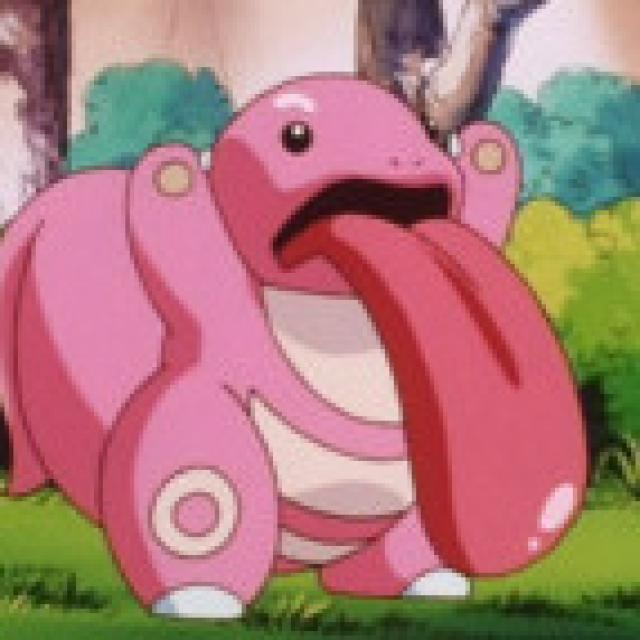Lickitung: (97, 72, 548, 634)
